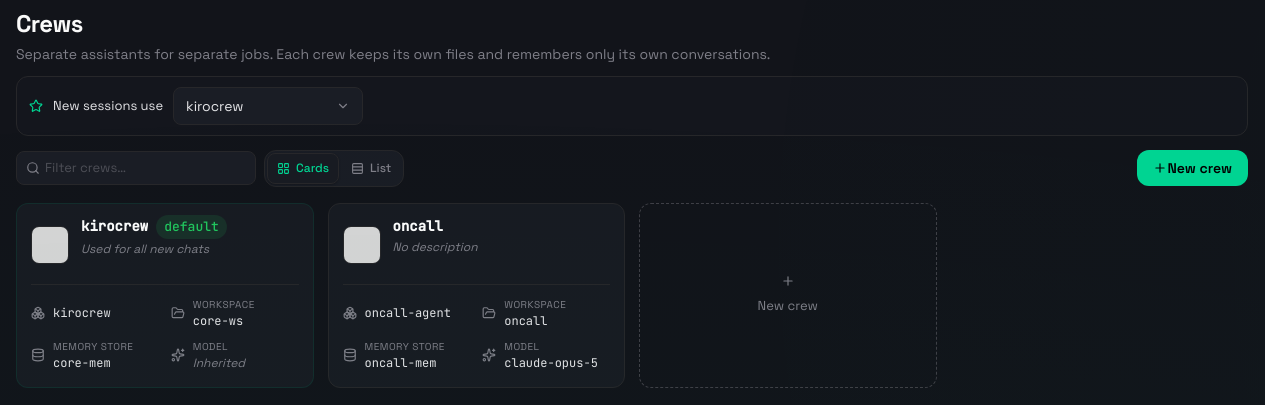
Test: crew roster — filtering › shows the filter empty state when nothing matches
This screenshot has width=1265, height=405.
Expected: the number of buttons with test id "crew-card" is 2, [16,203,314,388]; [328,203,625,388]
In the field labelled "Filter crews…": (136, 168) [16,151,256,185], type "no-such-crew"
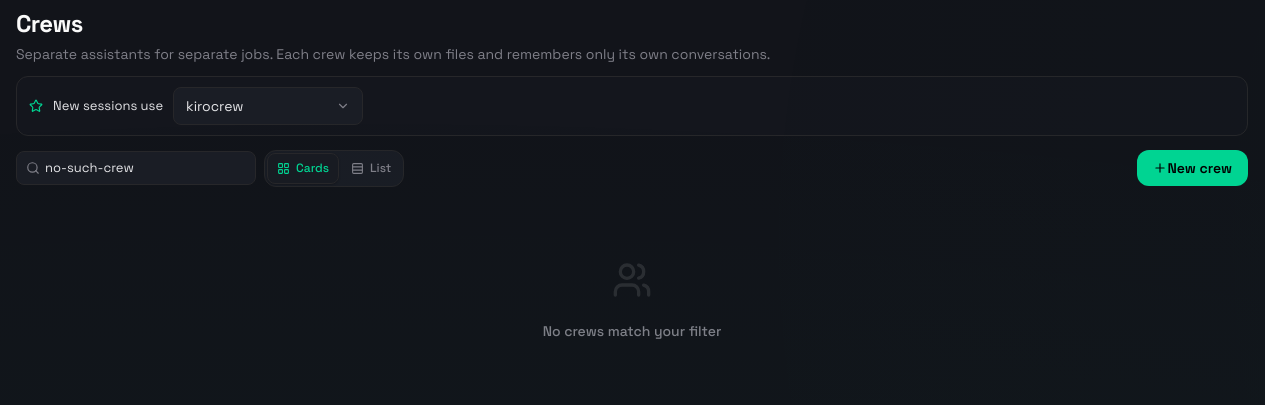
Result: no buttons with test id "crew-card" are shown
Result: the text with test id "empty-state-title" reads "No crews match your filter" at [543,322,721,340]
